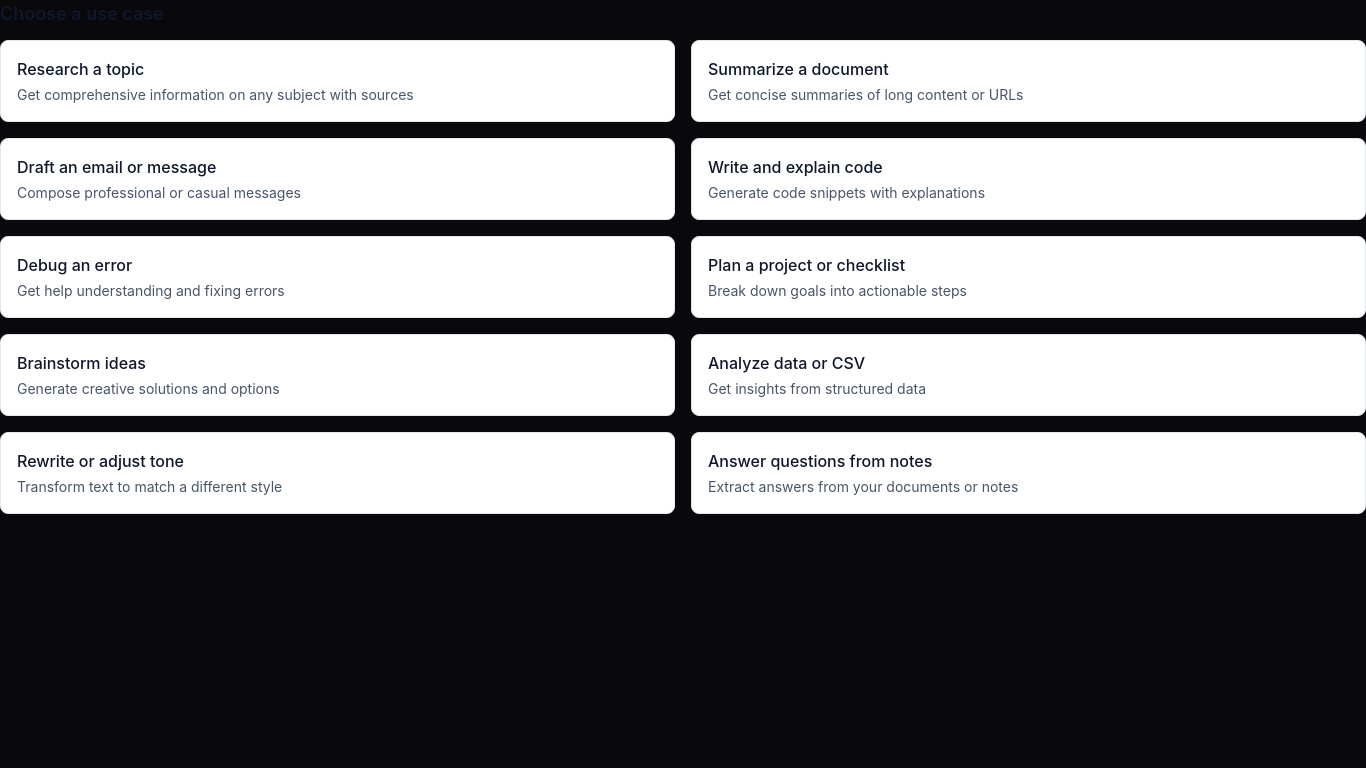
UseCaseBuilder › shows hint about pasting to agent when required fields filled
Click the radio button "Research a topic". click: click(338, 81)
box: [0,40,675,122]
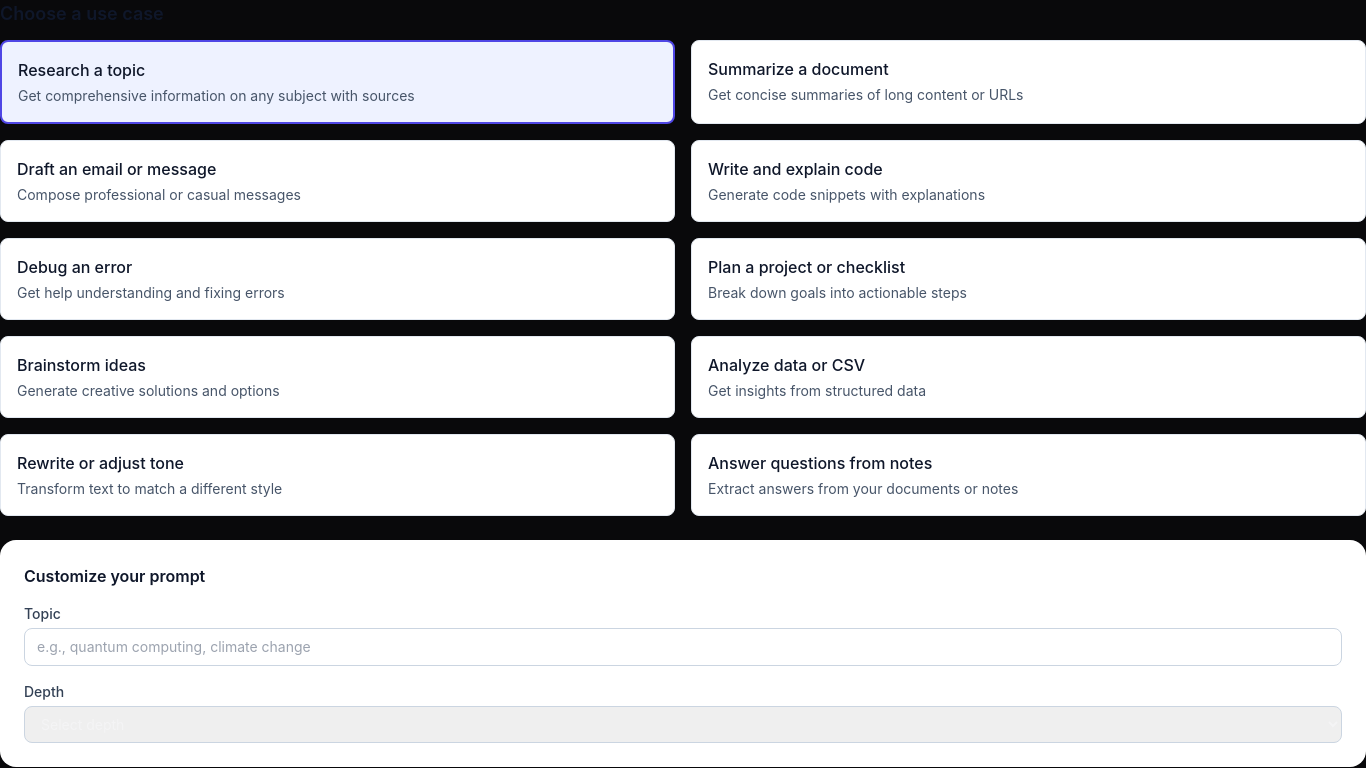
Check: the field is shown
// Fill all required fields
Type "AI" into the field labelled "Topic". click: (683, 647)
box: [24,628,1342,666]
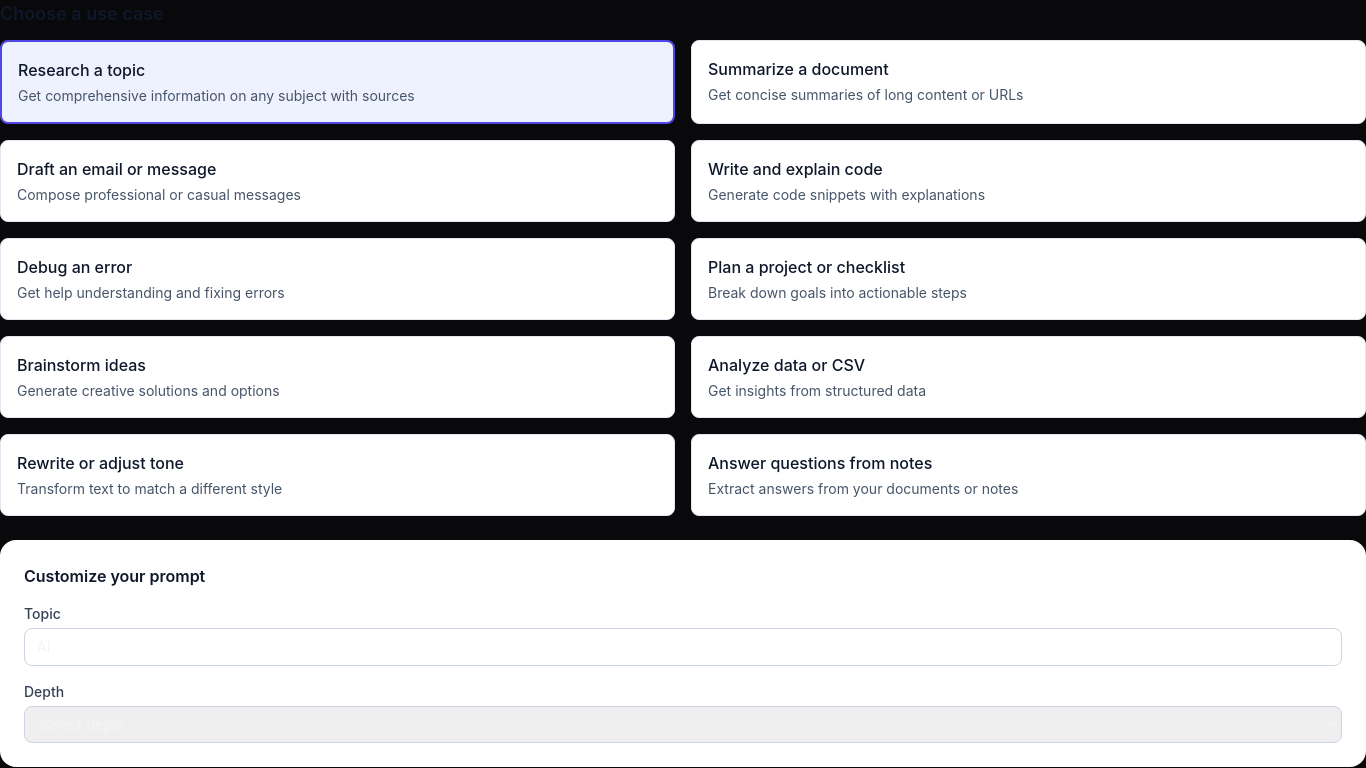
Select "detailed analysis" in the dropdown labelled "Depth". click: (683, 724)
box: [24,706,1342,743]
(page scrolled)
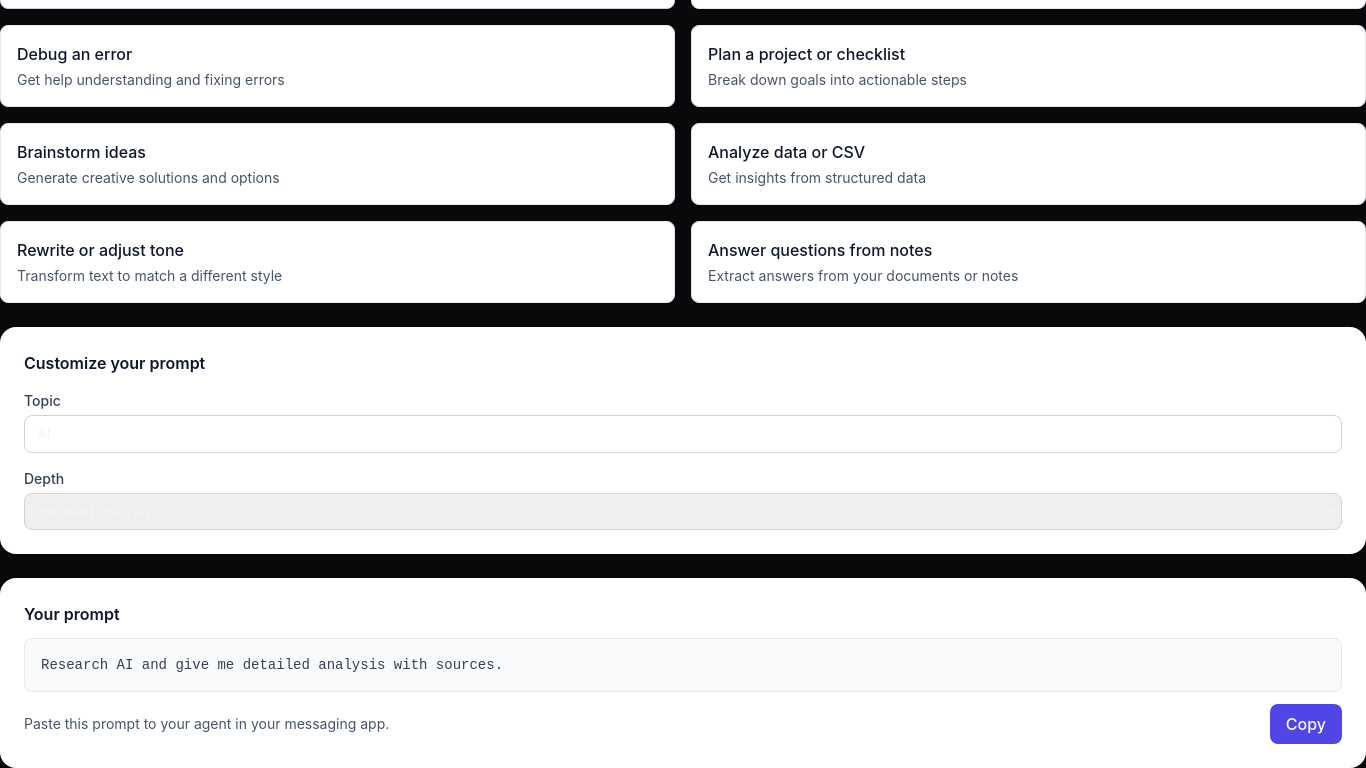
Check: the text "Paste this prompt to your agent in your messaging app." is shown, box [24,714,389,734]
